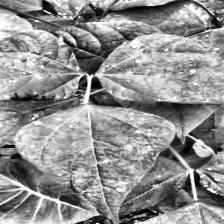Bean Rust: (13, 108, 168, 224), (98, 34, 224, 114), (0, 25, 77, 105), (196, 147, 224, 211)
